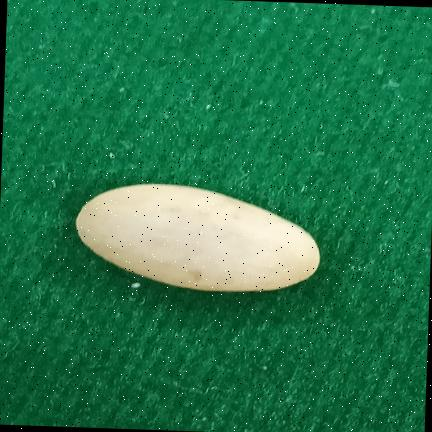parchment: (76, 184, 320, 292)
